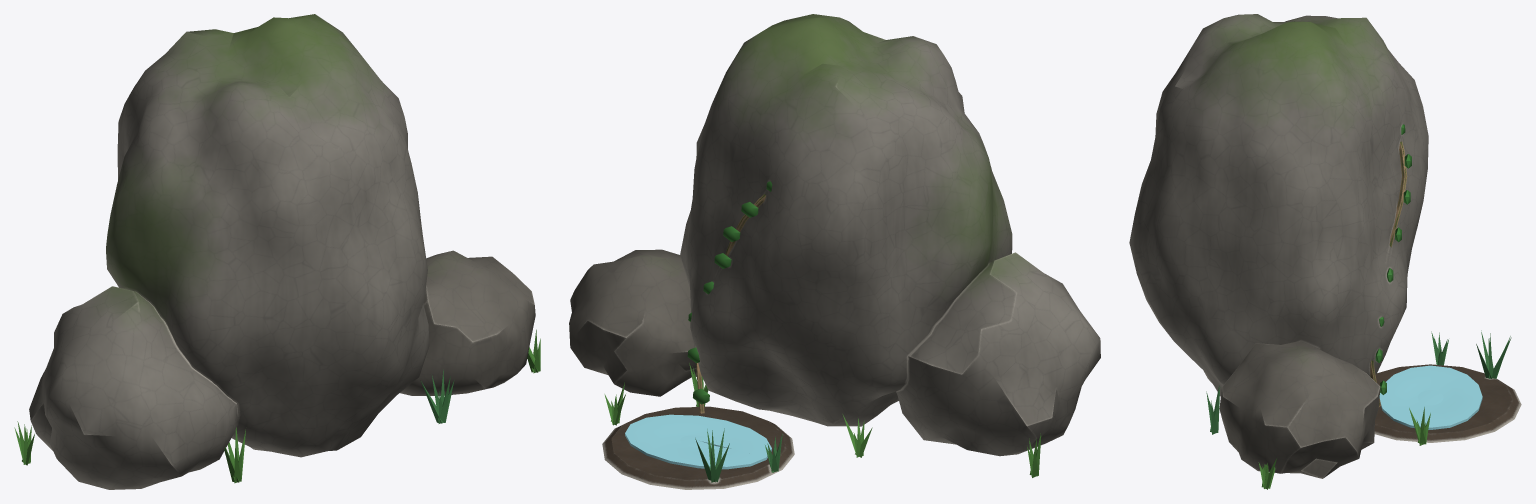
Rendered from roca_formacion.fbx.
3 views of the same model, side by side, from view 1: azimuth 30°, elevation 25°; view 2: azimuth 150°, elevation 25°; view 3: azimuth 270°, elevation 25° (orthographic). The views are drawn at different scales.
Visible parts, largest first — view 1: roca_formacion; view 2: roca_formacion, roca_formacion_charco_cristal; view 3: roca_formacion, roca_formacion_charco_cristal.
Part boxes in pixels (<box>): roca_formacion: <box>14,14,540,489</box>; roca_formacion: <box>569,14,1100,489</box>; roca_formacion_charco_cristal: <box>625,414,771,469</box>; roca_formacion: <box>1129,14,1521,489</box>; roca_formacion_charco_cristal: <box>1379,365,1482,429</box>.
Size of the model in its own units: 6.19 by 4.8 by 4.53.
Materials: 2 (1 with a texture image).
